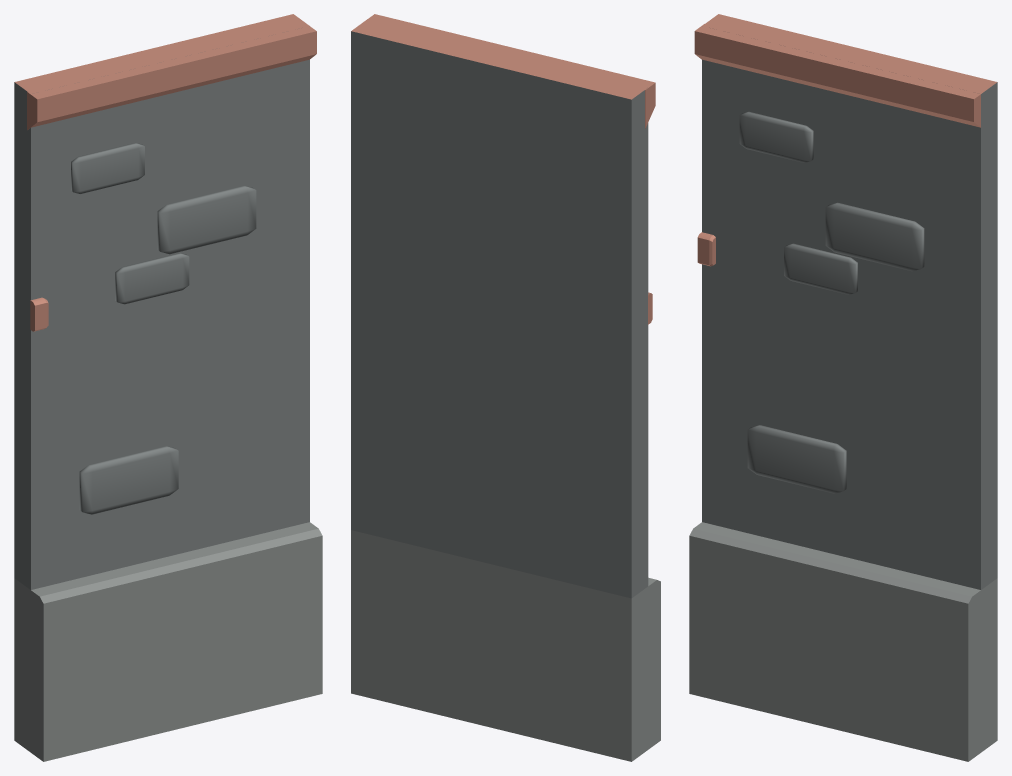
Rendered from Wall_04 1.fbx.
The picture shows the model from 3 angles, left to right: view 1: azimuth 30°, elevation 25°; view 2: azimuth 150°, elevation 25°; view 3: azimuth 330°, elevation 25°; orthographic projection.
Parts seen in each view (by area): view 1: Cube.004; view 2: Cube.004; view 3: Cube.004.
Part boxes in pixels (x1,y1,x2,y2): Cube.004: [14, 14, 322, 761]; Cube.004: [351, 14, 660, 761]; Cube.004: [689, 14, 997, 761].
Bounding box in the file's own units: 200 × 451 × 36.09.
